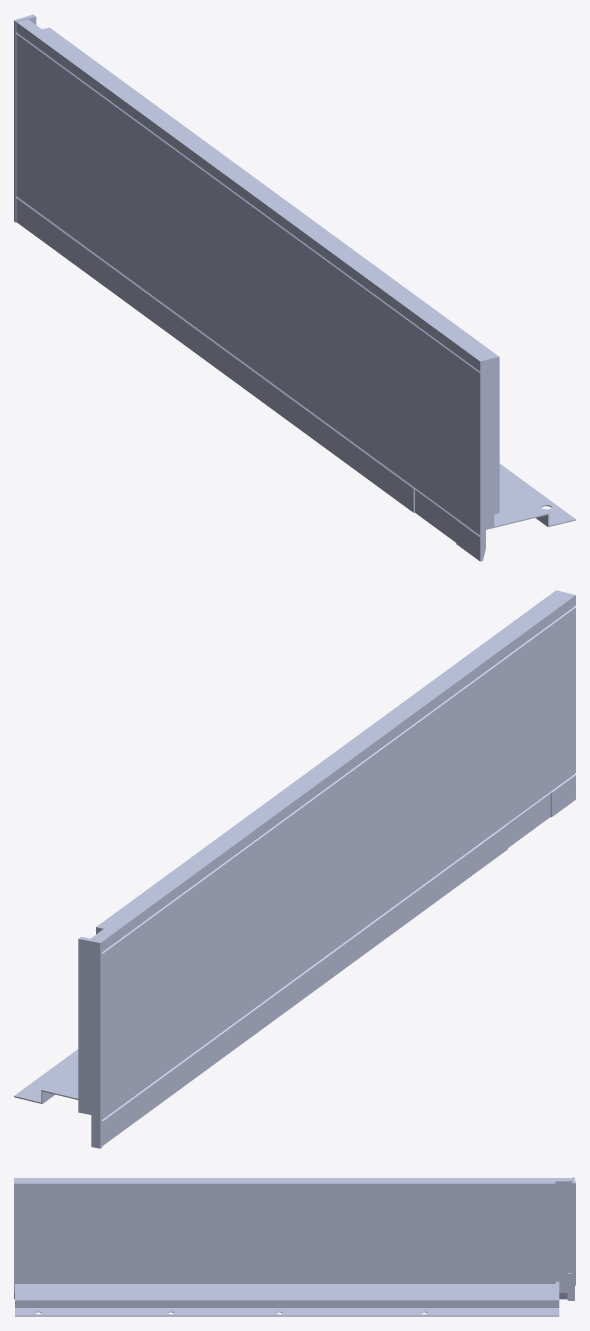
File: lg-kava-K550-p.glb
3 renders of one model, top to bottom at view 1: azimuth 30°, elevation 25°; view 2: azimuth 150°, elevation 25°; view 3: azimuth 270°, elevation 25°, orthographic. The views are drawn at different scales.
Parts seen in each view (by area): view 1: 43465870; view 2: 43465870; view 3: 43465870.
Part boxes in pixels (bbox=[...]): 43465870: bbox=[14, 14, 575, 561]; 43465870: bbox=[14, 590, 575, 1148]; 43465870: bbox=[14, 1177, 575, 1316].
Size of the model in its own units: 0.0653 by 0.1292 by 0.5435.
